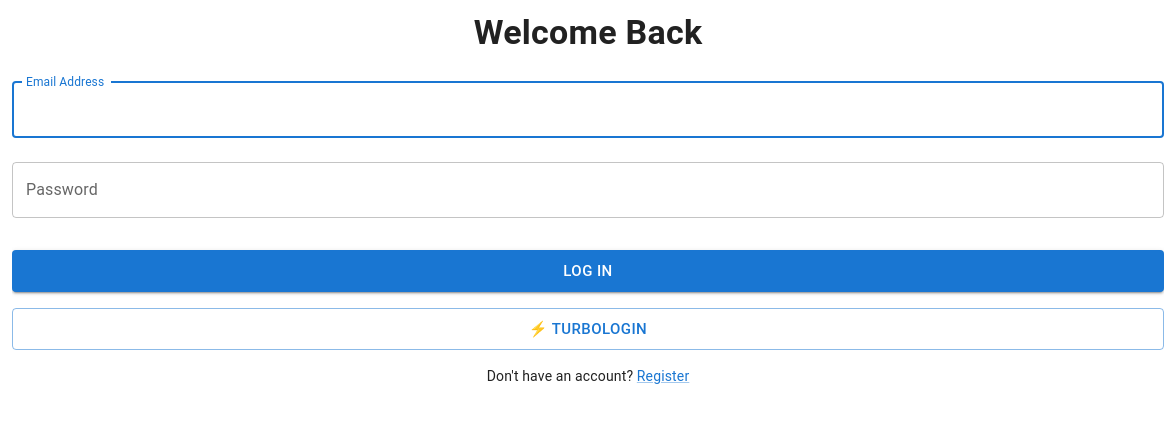
Test case: LoginForm › shows validation error for empty email
Click the button "Log In".
click(588, 271)  # box [12,250,1164,292]
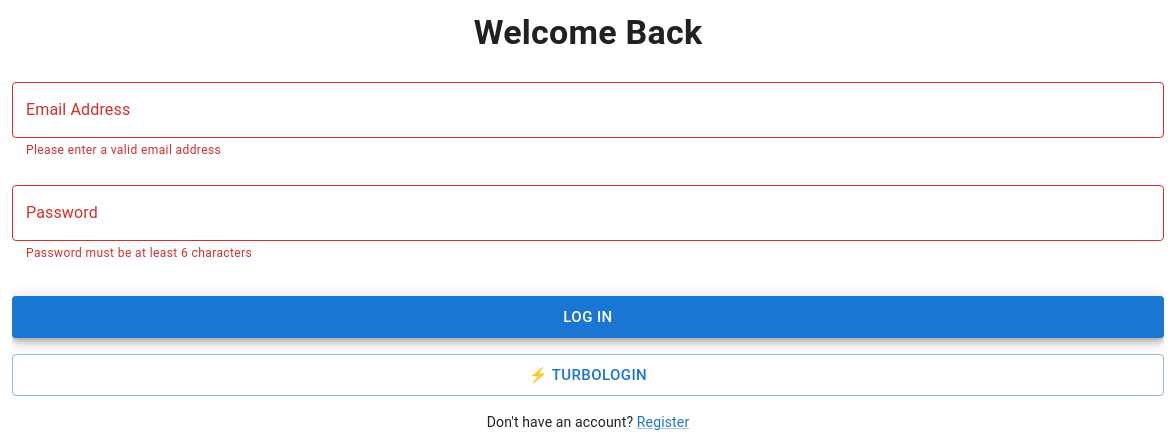
Now the text "Please enter a valid email address" is shown, box [26,143,221,157]
